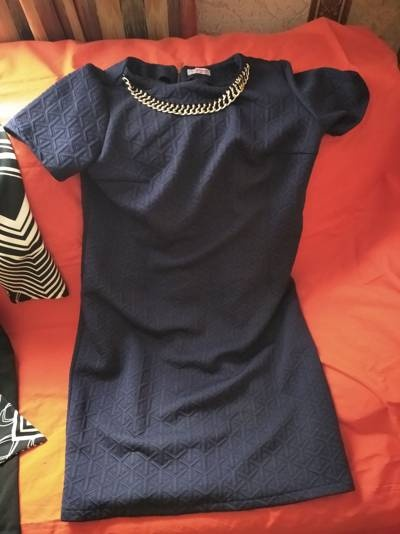Dress: (28, 52, 375, 523)
